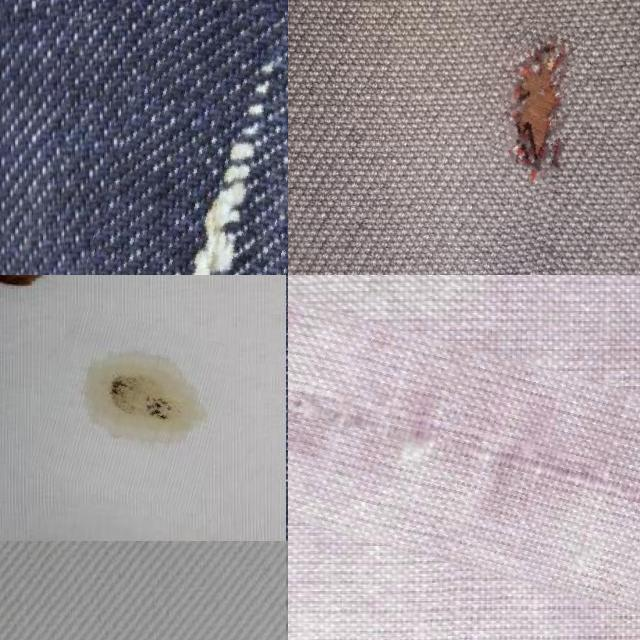Thread_other: (36, 313, 232, 505), (0, 275, 95, 302)
other: (496, 20, 576, 170)
stains: (288, 330, 640, 621), (55, 0, 288, 275)
